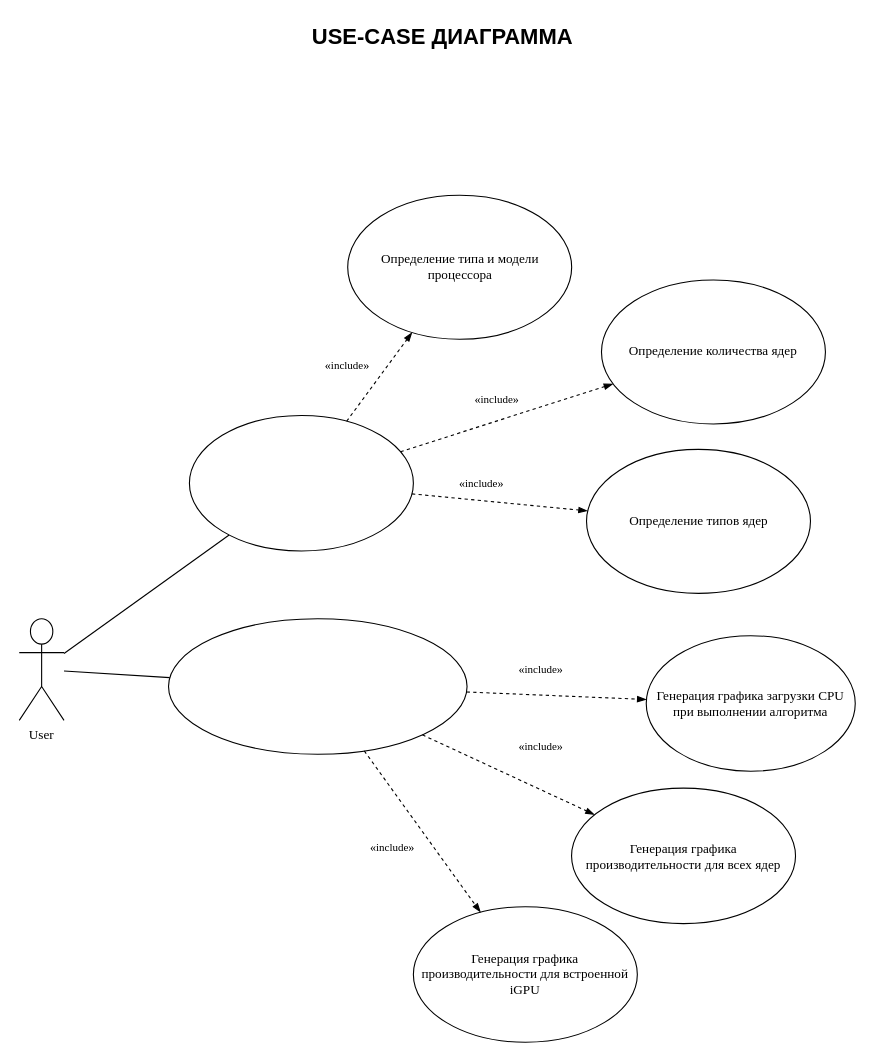
This 875x1062 diagram has some shape labels left out. The shapes that lost their labels are listed below. From the top down, each one's centre as x and y in pixels, then its label:
point 300,482: Запуск программы
point 317,686: Получение результатов измерений производительности
